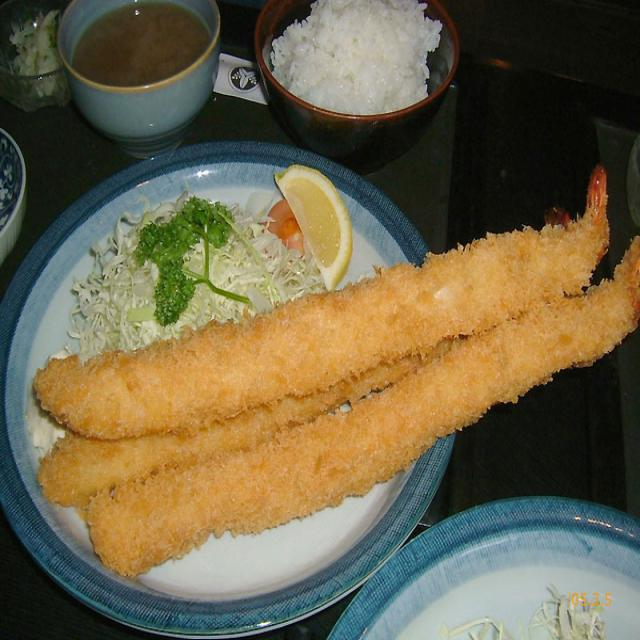炸货点心: (20, 154, 640, 588)
熟制海鲜: (20, 154, 640, 588)
